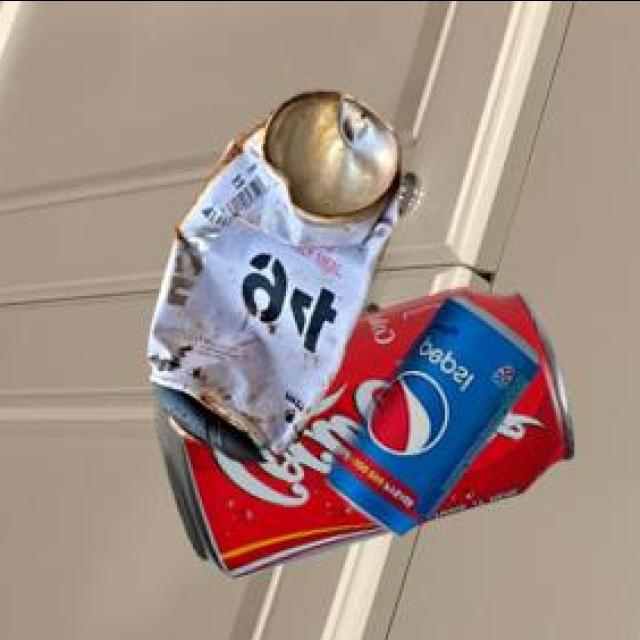logam: (160, 289, 578, 580), (153, 94, 403, 464), (330, 298, 541, 537)
